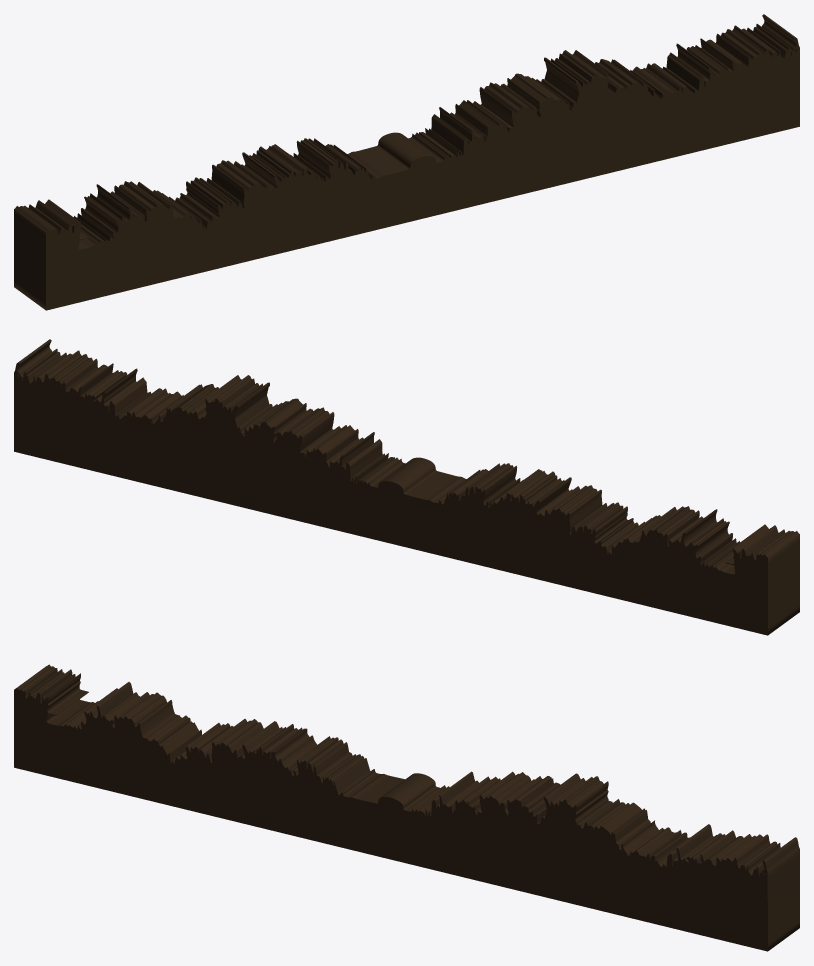
File: MudBorder.fbx
3 views of the same model, one above another, from view 1: azimuth 30°, elevation 25°; view 2: azimuth 150°, elevation 25°; view 3: azimuth 330°, elevation 25° (orthographic).
Visible parts, largest first — view 1: Curve.002; view 2: Curve.002; view 3: Curve.002.
Part boxes in pixels (bbox=[...]): Curve.002: bbox=[14, 14, 799, 310]; Curve.002: bbox=[14, 339, 799, 635]; Curve.002: bbox=[14, 664, 799, 951].
Size of the model in its own units: 54.19 by 7.04 by 4.
